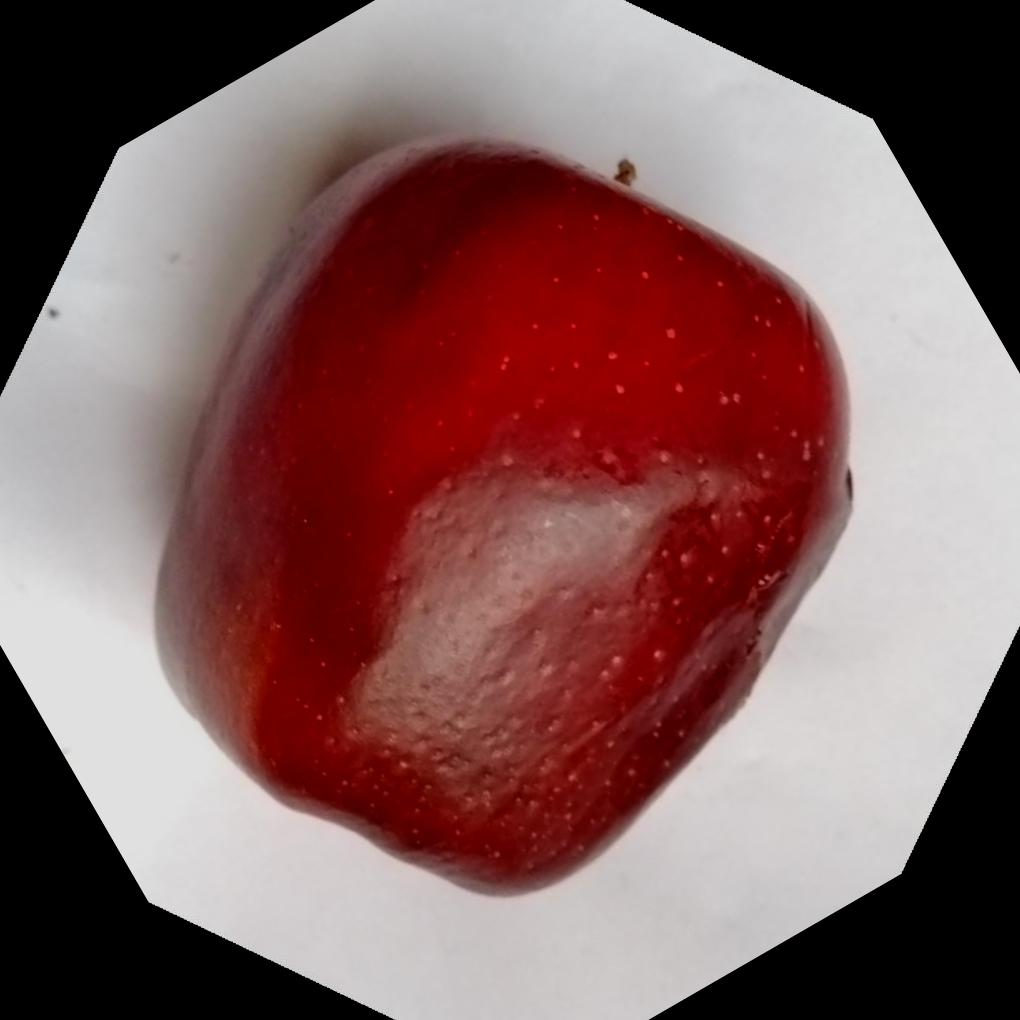FreshOrange: (146, 133, 854, 900)
